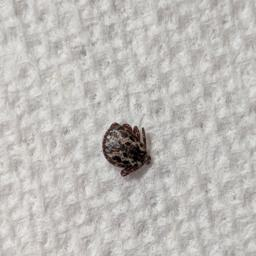Dermacentor variabilis: (102, 122, 150, 177)
